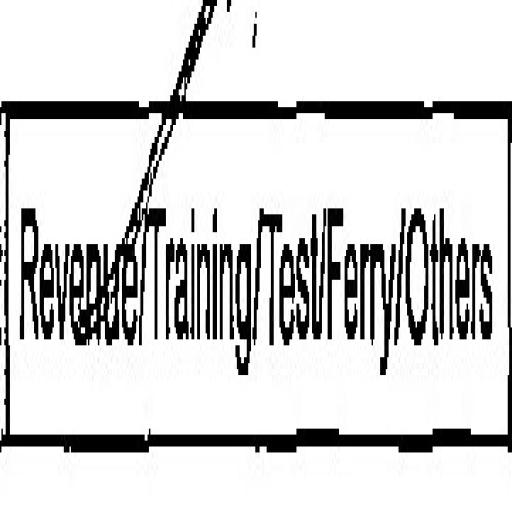check: (2, 0, 144, 505)
